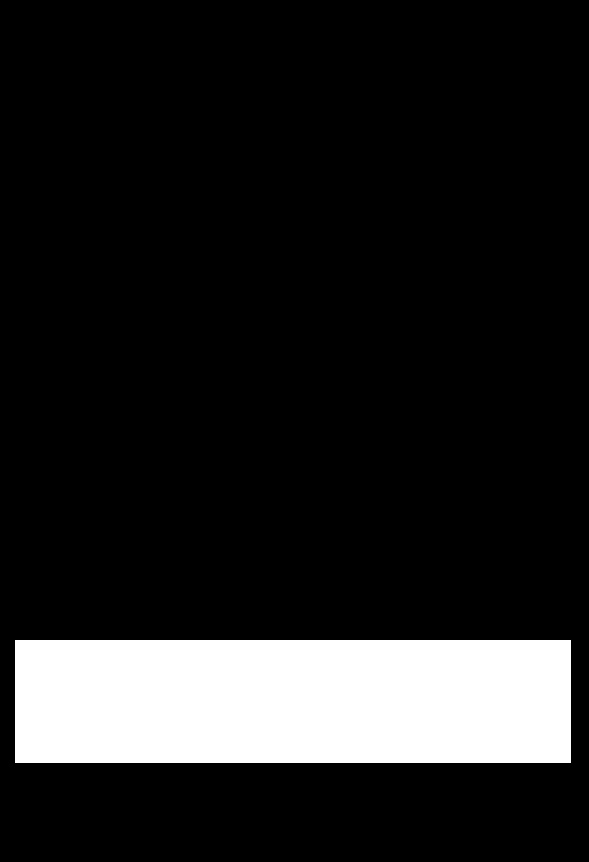table: (15, 640, 570, 762)
